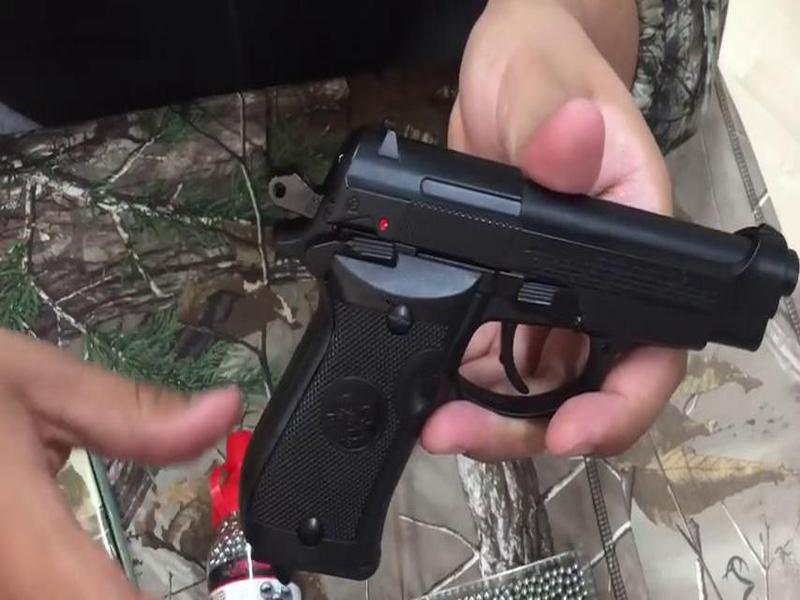Pistola: (233, 112, 786, 580)
